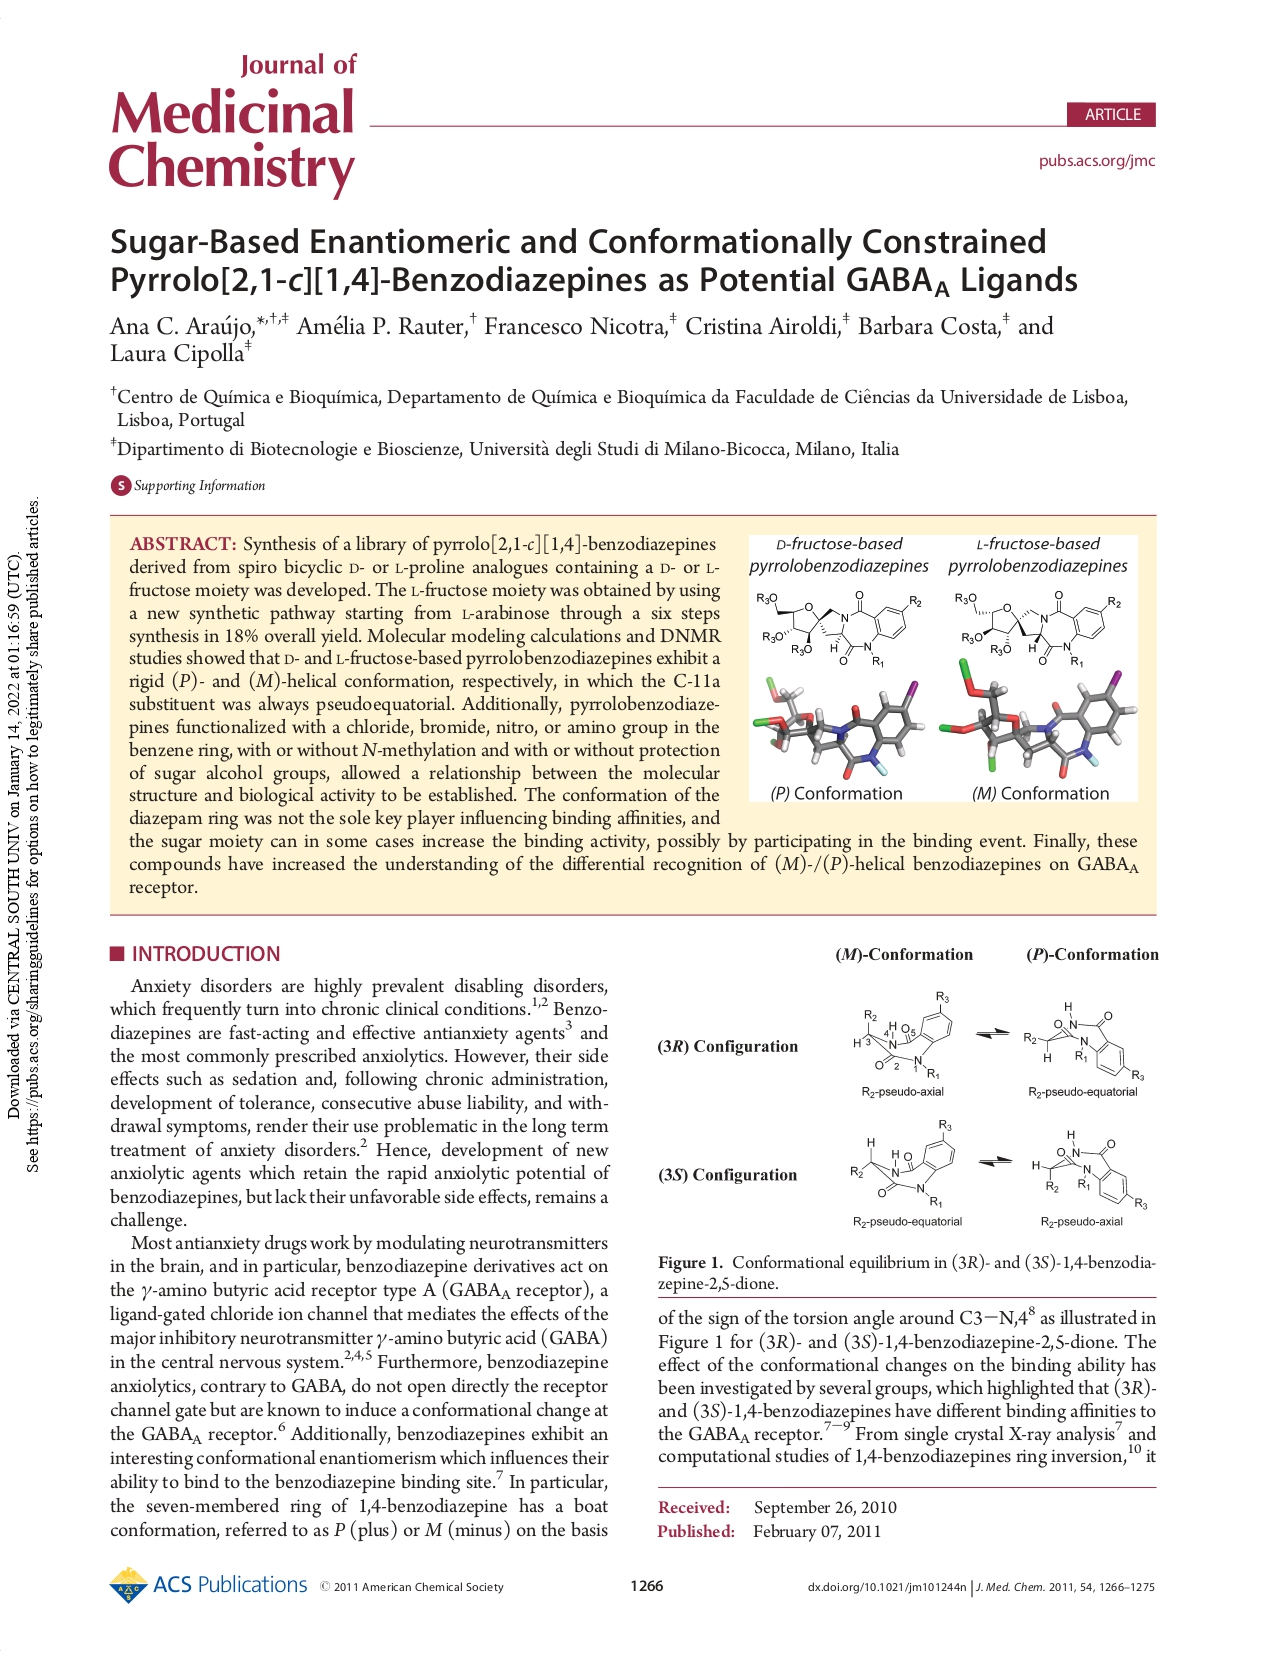exist_molecular: (754, 586, 922, 670), (952, 586, 1122, 669), (1027, 1125, 1152, 1213), (1023, 997, 1144, 1083), (848, 1114, 955, 1209), (852, 989, 957, 1083)
